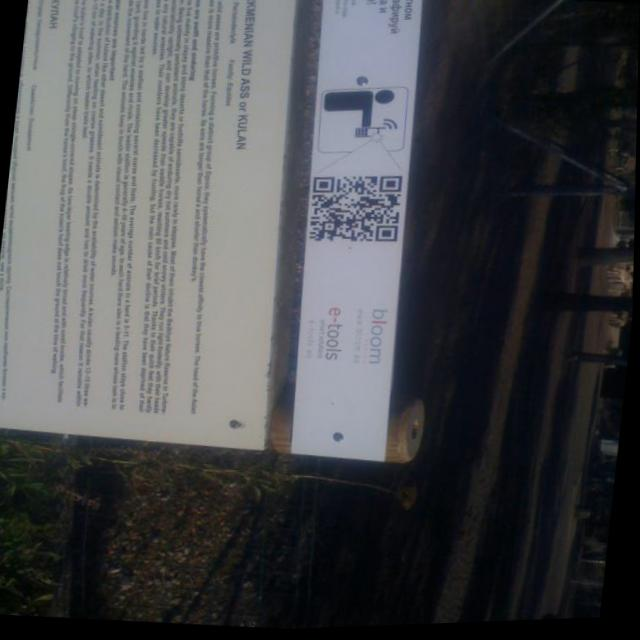qrcode: (307, 172, 404, 252)
